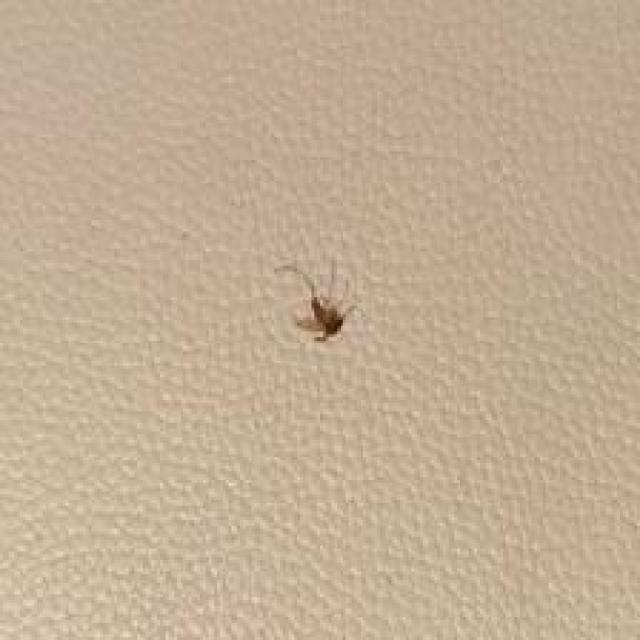Culex: (273, 257, 358, 343)
